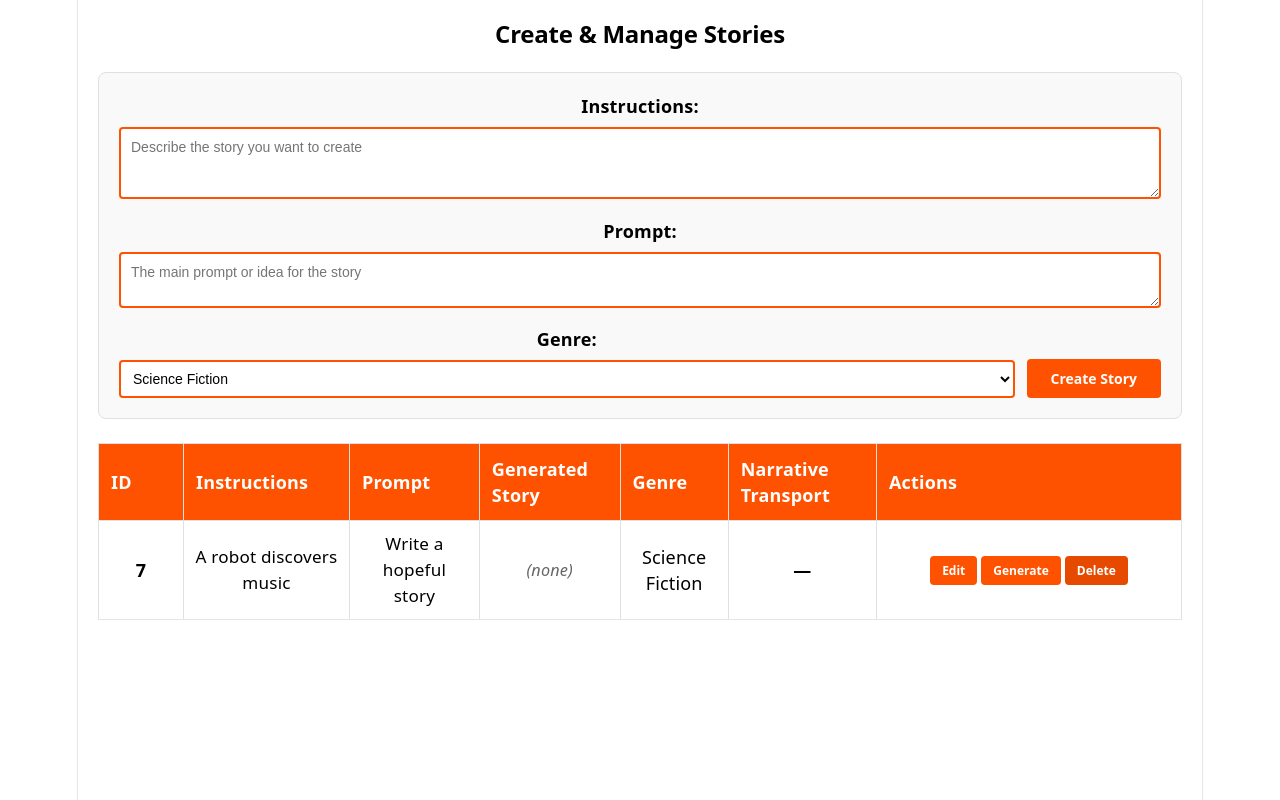
Test: Stories › shows a quota alert when generation reaches the AI quota
Expected: the text "A robot discovers music" is shown, [194,544,339,596]
Click the button "Generate". click: (1021, 571)
box: [981,556,1061,585]
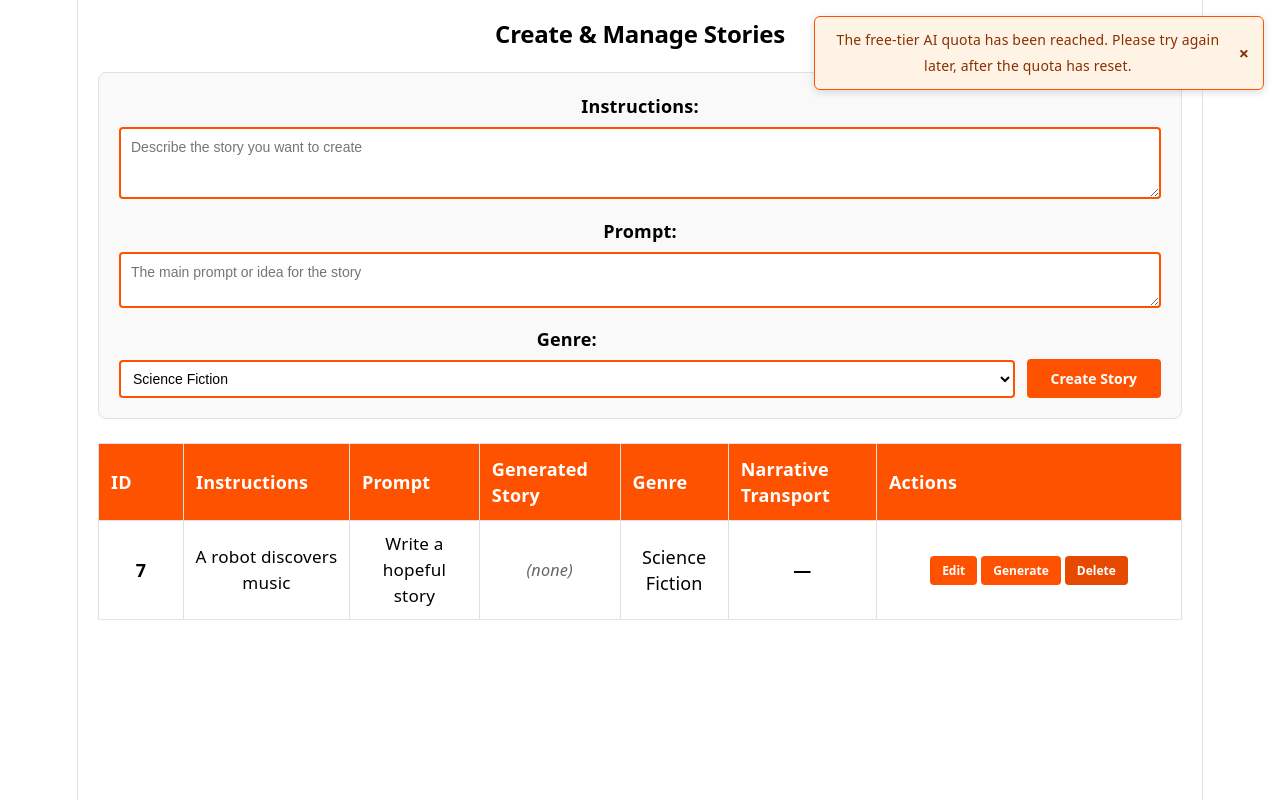
Now the message shows "free-tier AI quota has been reached", box [836,30,1219,75]
